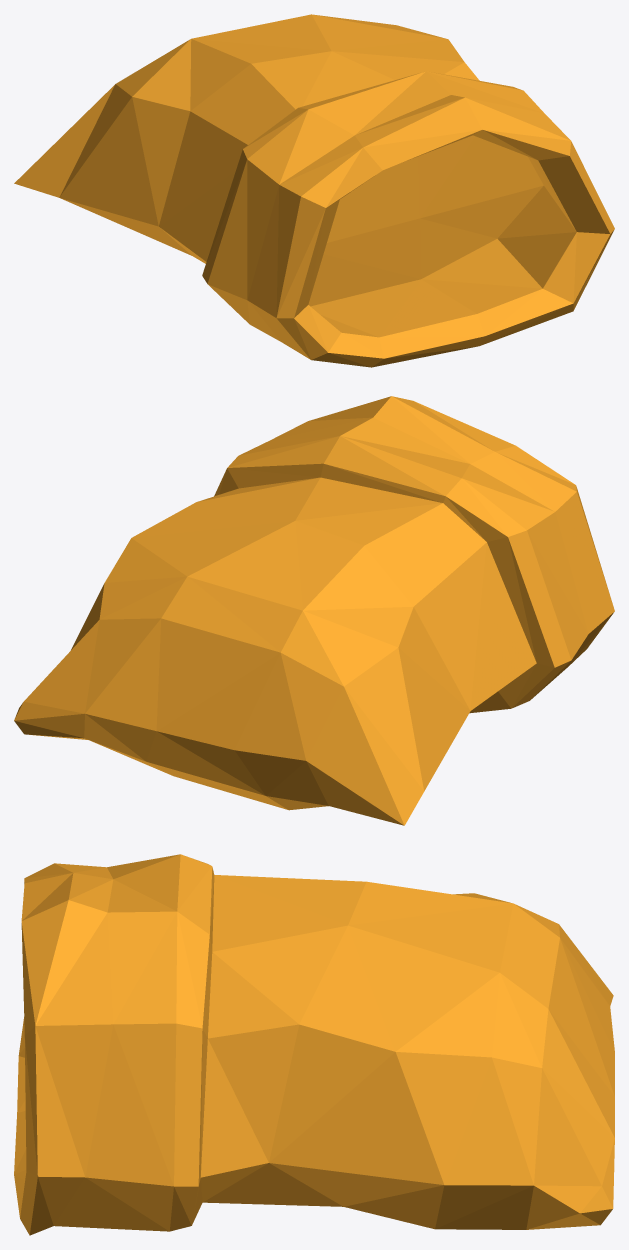
The model's file is SM_Bag_Lying_Open_Farm.fbx.
3 views of the same model, one above another, from view 1: azimuth 30°, elevation 25°; view 2: azimuth 150°, elevation 25°; view 3: azimuth 270°, elevation 25° (orthographic). The views are drawn at different scales.
Parts seen in each view (by area): view 1: bag-lying-open-farm; view 2: bag-lying-open-farm; view 3: bag-lying-open-farm.
Part boxes in pixels (<box>): bag-lying-open-farm: <box>14,14,614,367</box>; bag-lying-open-farm: <box>14,396,614,825</box>; bag-lying-open-farm: <box>14,854,614,1235</box>.
Bounding box in the file's own units: 0.5745 × 0.3432 × 0.6344.
